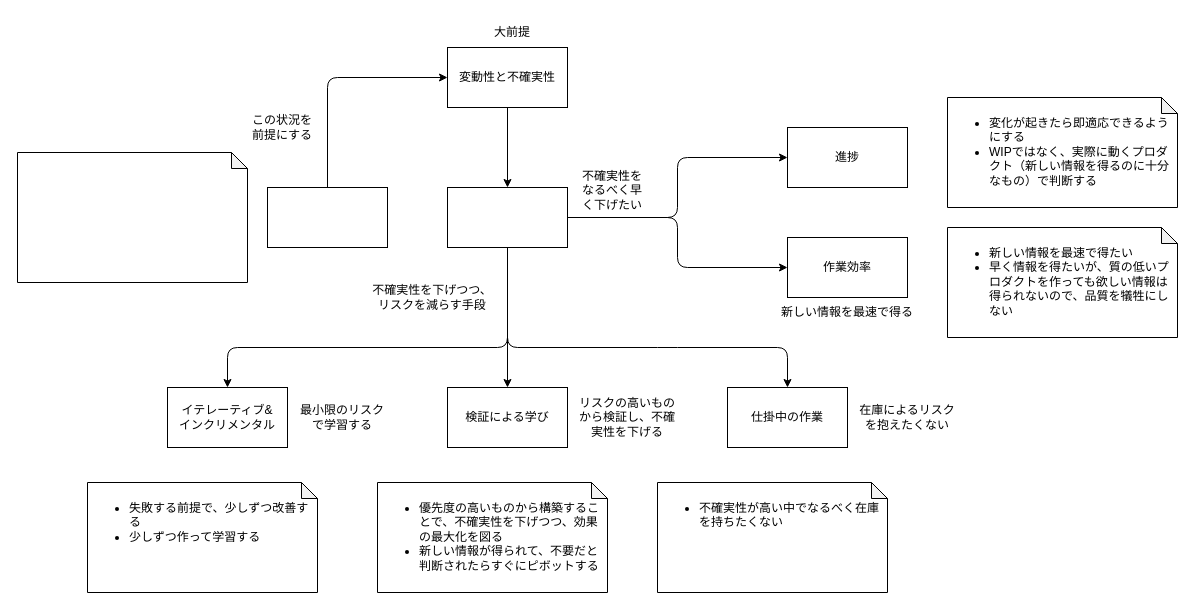
Image size: 1195x610. Some labels were removed from this diagram. The box of each missing label's shape, as (x1, y1, x2, y2) in pixels:
不確実性の削減: (446, 186, 568, 248)
予見と適応: (266, 186, 388, 248)
変動性、不確実性の高い状況では、 変化しない前提で計画を組むと、後に計画が崩れる 不確実な状況で意思決定をすると、誤った決断を下す可能性が高い: (16, 152, 248, 282)
